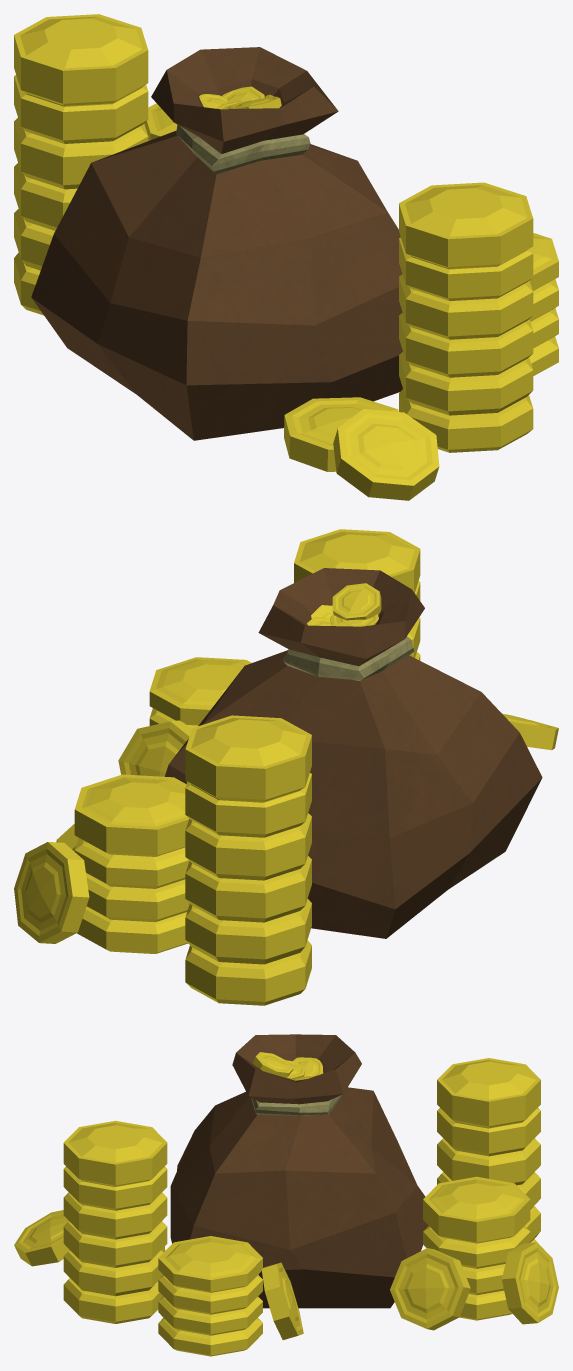
Rendered from CoinBag(Pile).fbx.
3 renders of one model, top to bottom at view 1: azimuth 30°, elevation 25°; view 2: azimuth 150°, elevation 25°; view 3: azimuth 270°, elevation 25°, orthographic. The views are drawn at different scales.
Visible parts, largest first — view 1: CoinBag, CoinPile; view 2: CoinPile, CoinBag; view 3: CoinPile, CoinBag.
Part boxes in pixels (bbox=[...]): CoinBag: bbox=[31, 47, 402, 440]; CoinPile: bbox=[14, 14, 558, 500]; CoinPile: bbox=[14, 529, 558, 1005]; CoinBag: bbox=[165, 568, 542, 938]; CoinPile: bbox=[14, 1058, 558, 1356]; CoinBag: bbox=[170, 1034, 428, 1308].
Bounding box in the file's own units: 359 × 270 × 576.
Materials: 4 (2 with a texture image).
